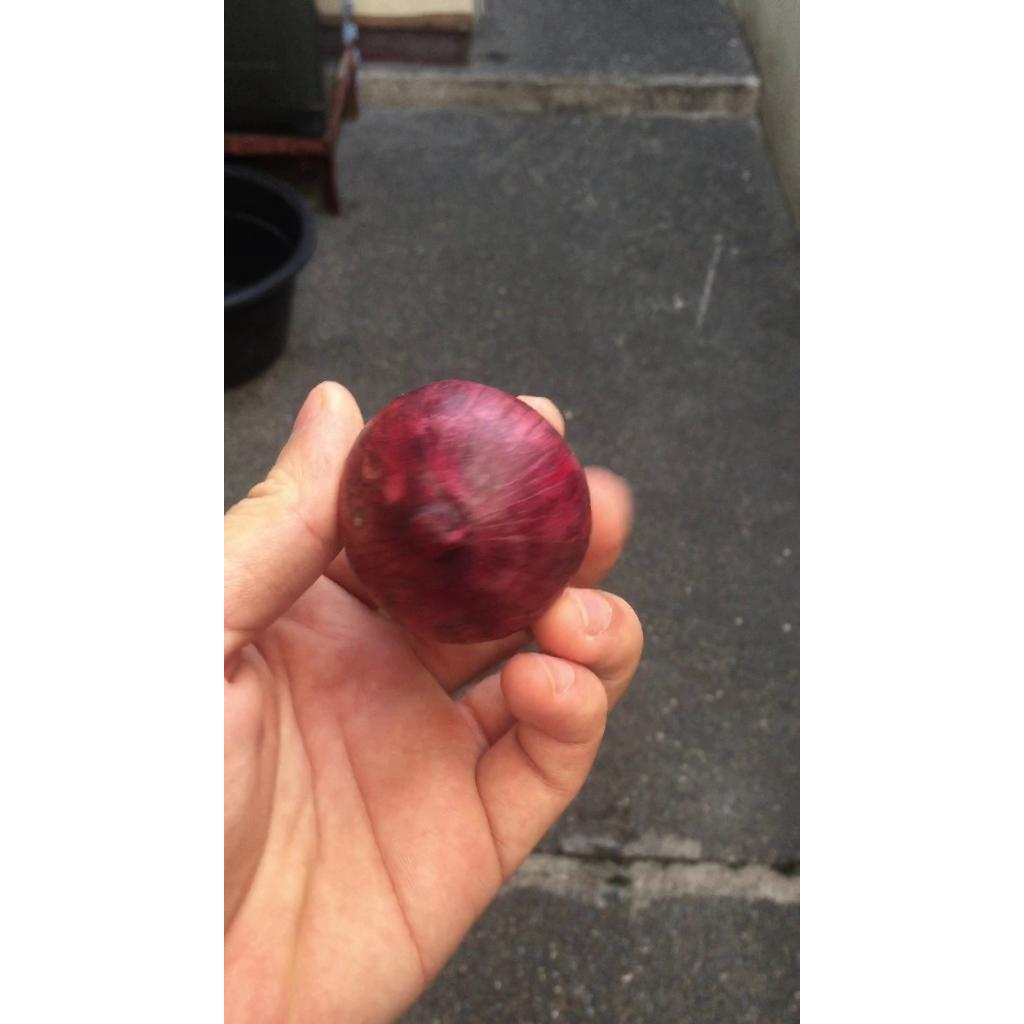Onion: (338, 380, 590, 643)
